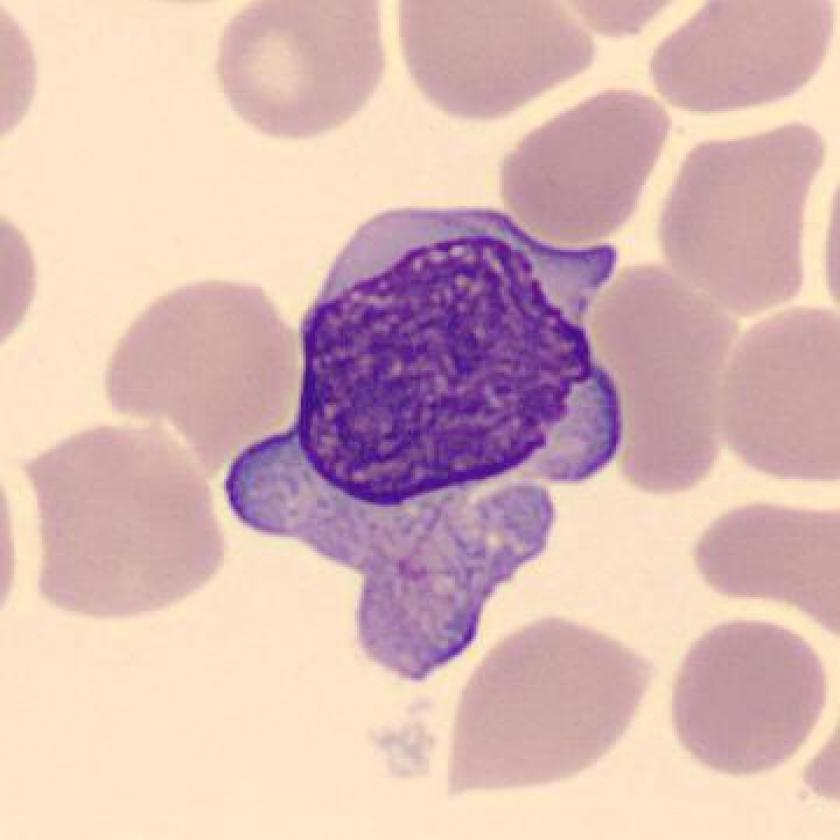monocyte: (209, 179, 650, 693)
